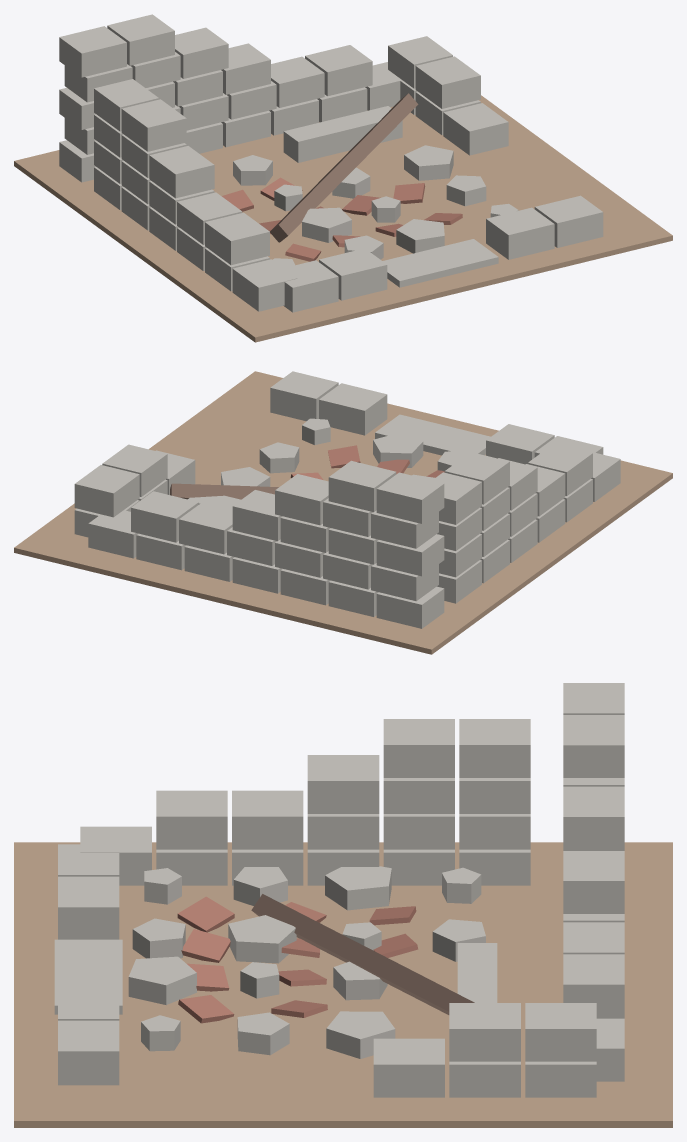
The model's file is ruin-stone.glb.
The picture shows the model from 3 angles, top to bottom: view 1: azimuth 30°, elevation 25°; view 2: azimuth 150°, elevation 25°; view 3: azimuth 270°, elevation 25°; orthographic projection. The views are drawn at different scales.
Parts seen in each view (by area): view 1: ruin-stone_stone, ruin-stone_soil, ruin-stone_wood, ruin-stone_roof; view 2: ruin-stone_stone, ruin-stone_soil, ruin-stone_wood, ruin-stone_roof; view 3: ruin-stone_stone, ruin-stone_soil, ruin-stone_roof, ruin-stone_wood.
Boxes of the visible parts, x1,y1,x2,y2 form: ruin-stone_stone: (59, 14, 603, 312); ruin-stone_soil: (14, 95, 672, 342); ruin-stone_wood: (270, 93, 418, 242); ruin-stone_roof: (221, 177, 462, 261); ruin-stone_stone: (74, 371, 620, 628); ruin-stone_soil: (14, 371, 672, 654); ruin-stone_wood: (170, 483, 278, 499); ruin-stone_roof: (290, 445, 444, 479); ruin-stone_stone: (54, 683, 624, 1097); ruin-stone_soil: (14, 842, 672, 1127); ruin-stone_roof: (177, 896, 418, 1023); ruin-stone_wood: (251, 894, 474, 1014).
Size of the model in its own units: 2 by 0.6183 by 2.
